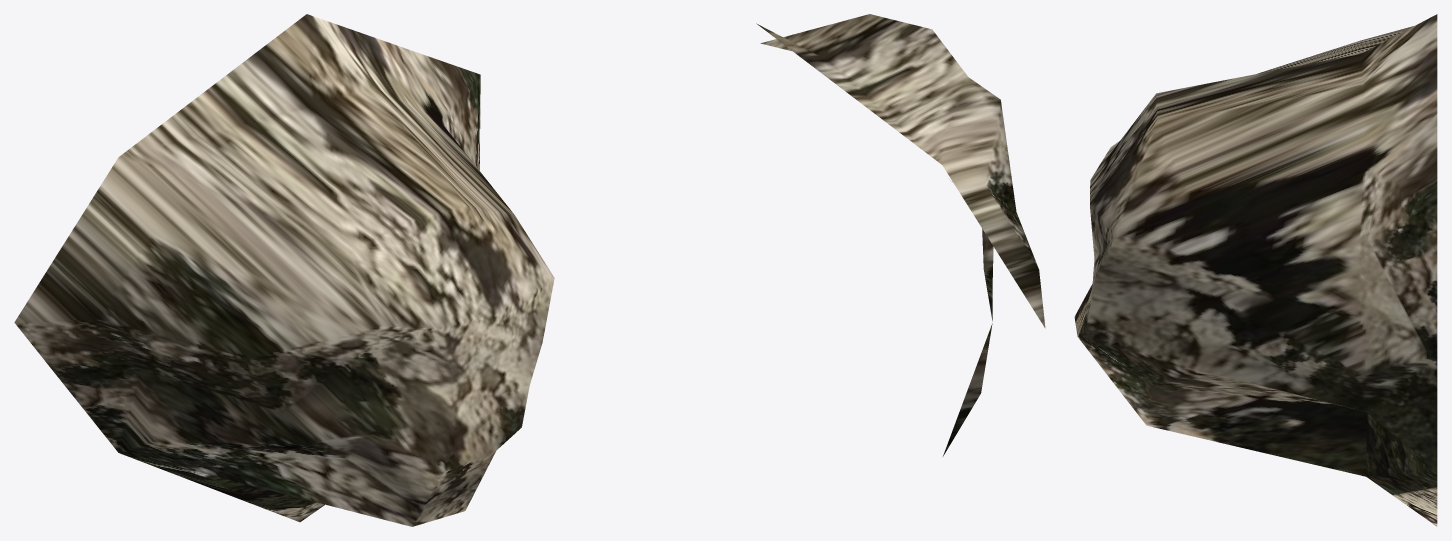
3 renders of one model, left to right at view 1: azimuth 30°, elevation 25°; view 2: azimuth 150°, elevation 25°; view 3: azimuth 270°, elevation 25°, orthographic. The views are drawn at different scales.
Parts seen in each view (by area): view 1: model_Object30; view 2: model_Object30; view 3: model_Object30.
Boxes of the visible parts, x1=… form: model_Object30: x1=14, y1=14, x2=554, y2=526; model_Object30: x1=756, y1=14, x2=1045, y2=456; model_Object30: x1=1074, y1=14, x2=1437, y2=526.
Bounding box in the file's own units: 1.62 × 1.68 × 1.07.
Materials: 1 (1 with a texture image).
